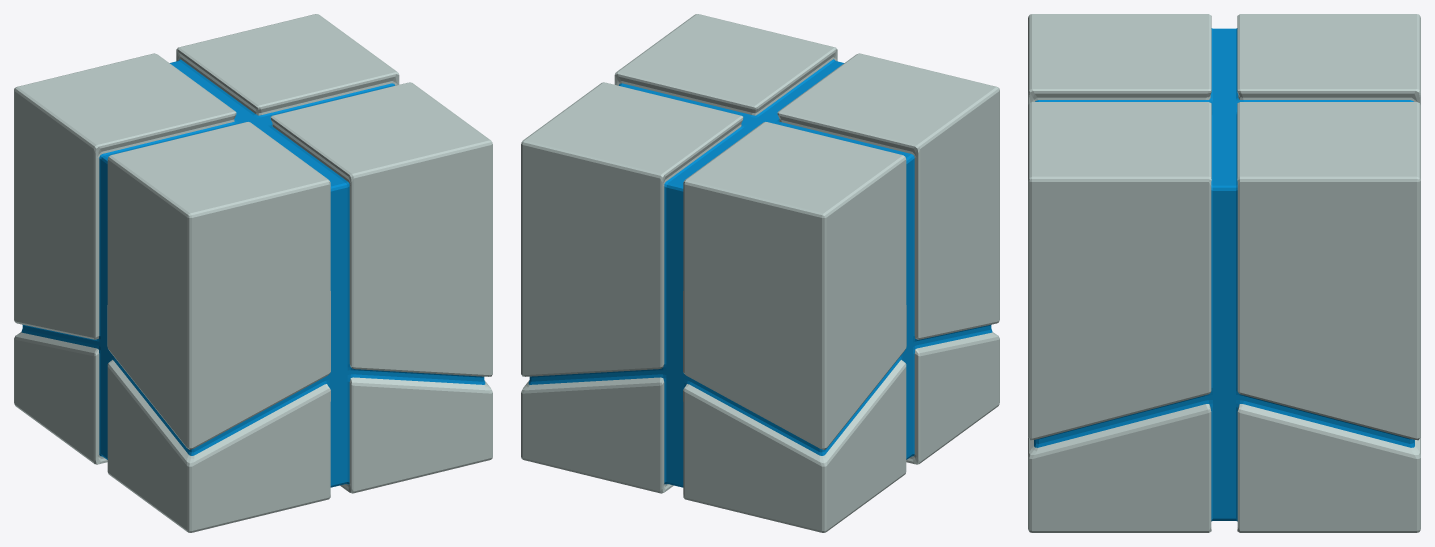
The model's file is Test_Crates.fbx.
The picture shows the model from 3 angles, left to right: view 1: azimuth 30°, elevation 25°; view 2: azimuth 150°, elevation 25°; view 3: azimuth 270°, elevation 25°; orthographic projection. The views are drawn at different scales.
Parts seen in each view (by area): view 1: Cube; view 2: Cube; view 3: Cube.
Part boxes in pixels (bbox=[...]): Cube: bbox=[14, 14, 492, 532]; Cube: bbox=[521, 14, 999, 532]; Cube: bbox=[1028, 14, 1420, 532].
Size of the model in its own units: 200 by 200 by 200.
